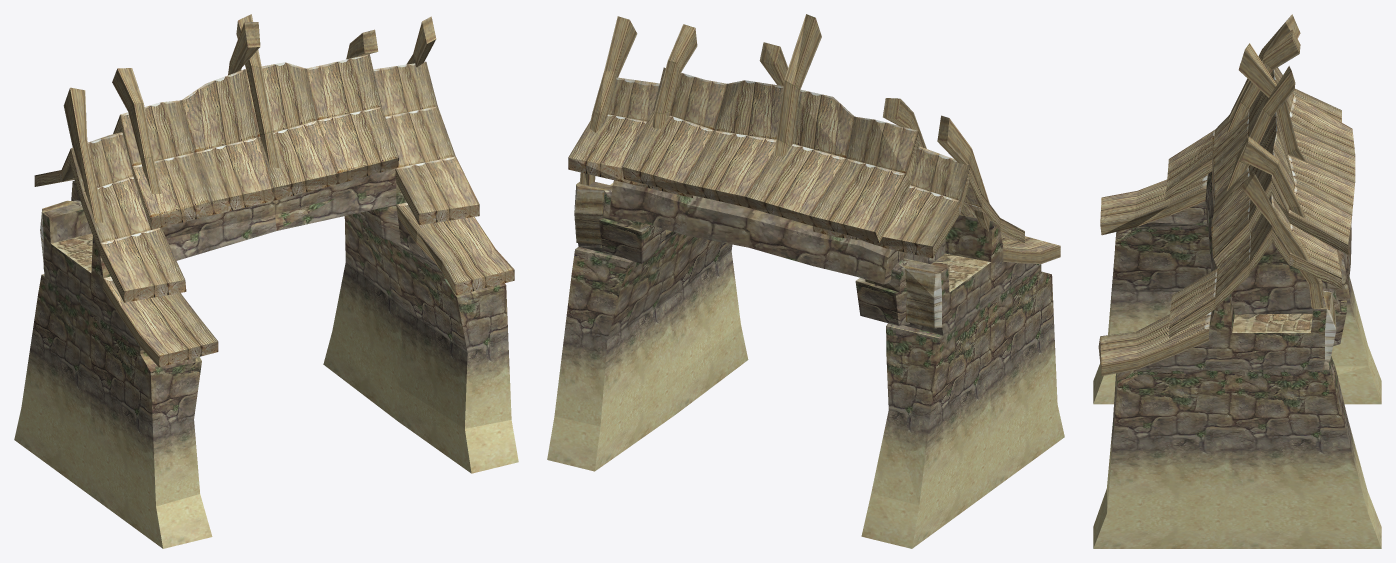
Rendered from C3SMWA20VHL_H.obj.
3 renders of one model, left to right at view 1: azimuth 30°, elevation 25°; view 2: azimuth 150°, elevation 25°; view 3: azimuth 270°, elevation 25°, orthographic. The views are drawn at different scales.
Visible parts, largest first — view 1: Node 0; view 2: Node 0; view 3: Node 0.
Boxes of the visible parts, x1=… form: Node 0: x1=14, y1=14, x2=518, y2=548; Node 0: x1=547, y1=14, x2=1064, y2=548; Node 0: x1=1093, y1=14, x2=1381, y2=548.
Size of the model in its own units: 15 by 17.26 by 10.88.
2 materials, 2 textured.
